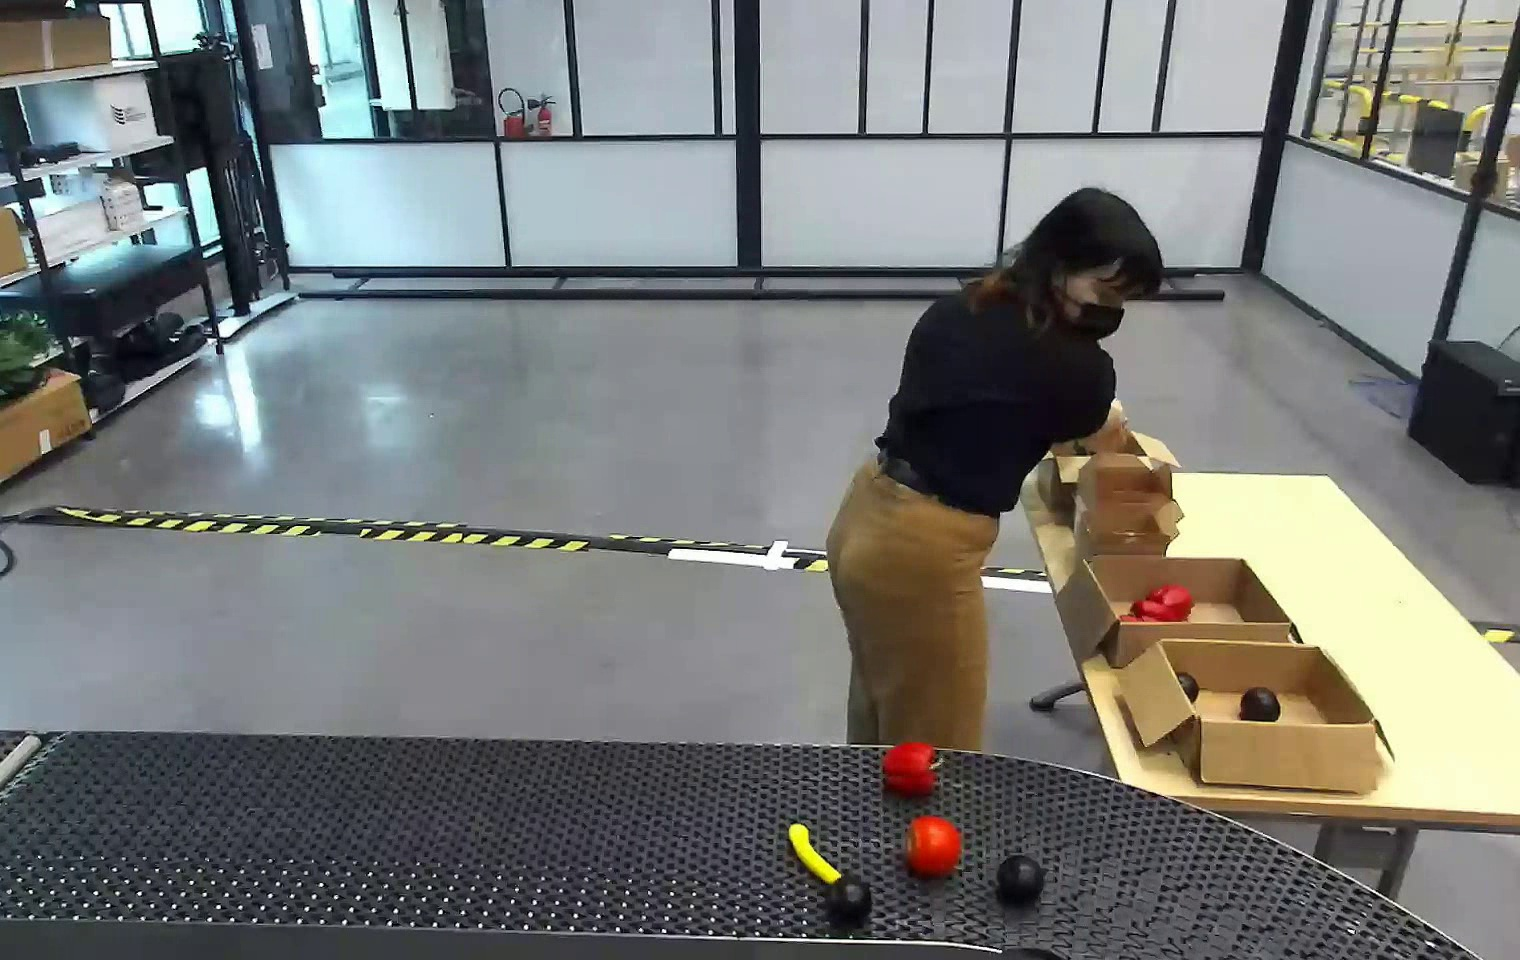Main droite: (1094, 417, 1132, 453)
